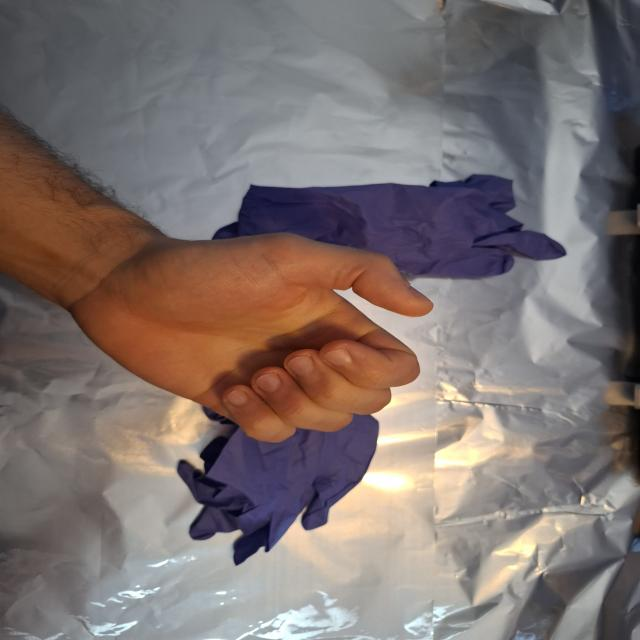glove_off: (61, 230, 436, 444)
